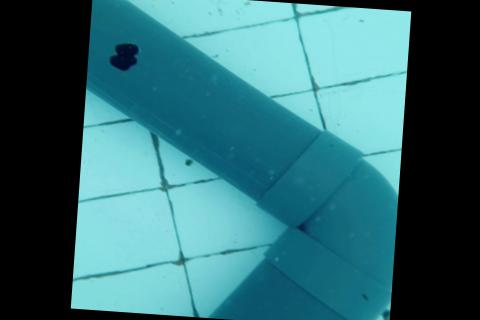kebocoran: (105, 41, 139, 73)
